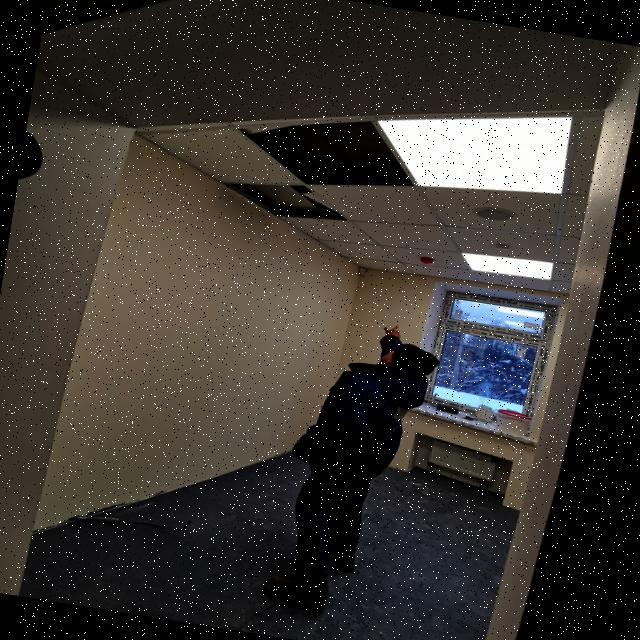NoHelmet: (374, 341, 444, 384)
